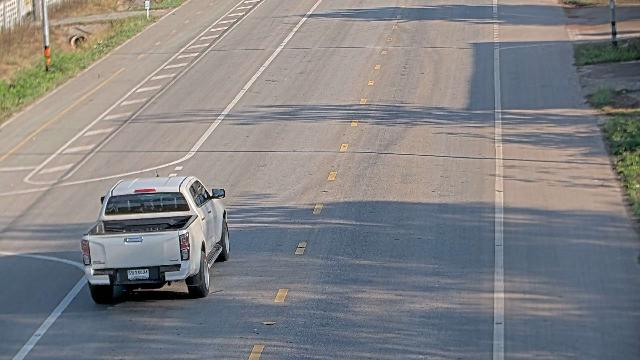pickup-truck: (80, 171, 230, 303)
